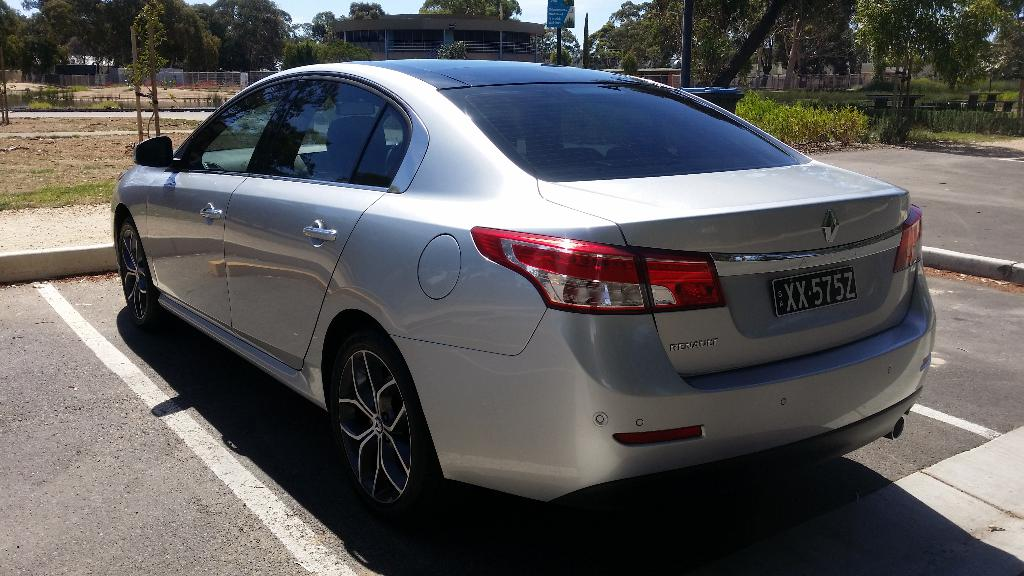Car: (110, 60, 938, 525)
